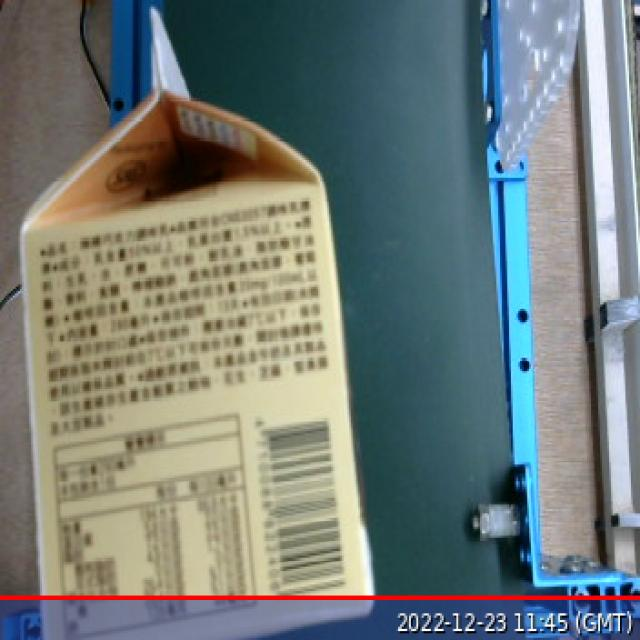non_white_jug: (10, 0, 395, 640)
